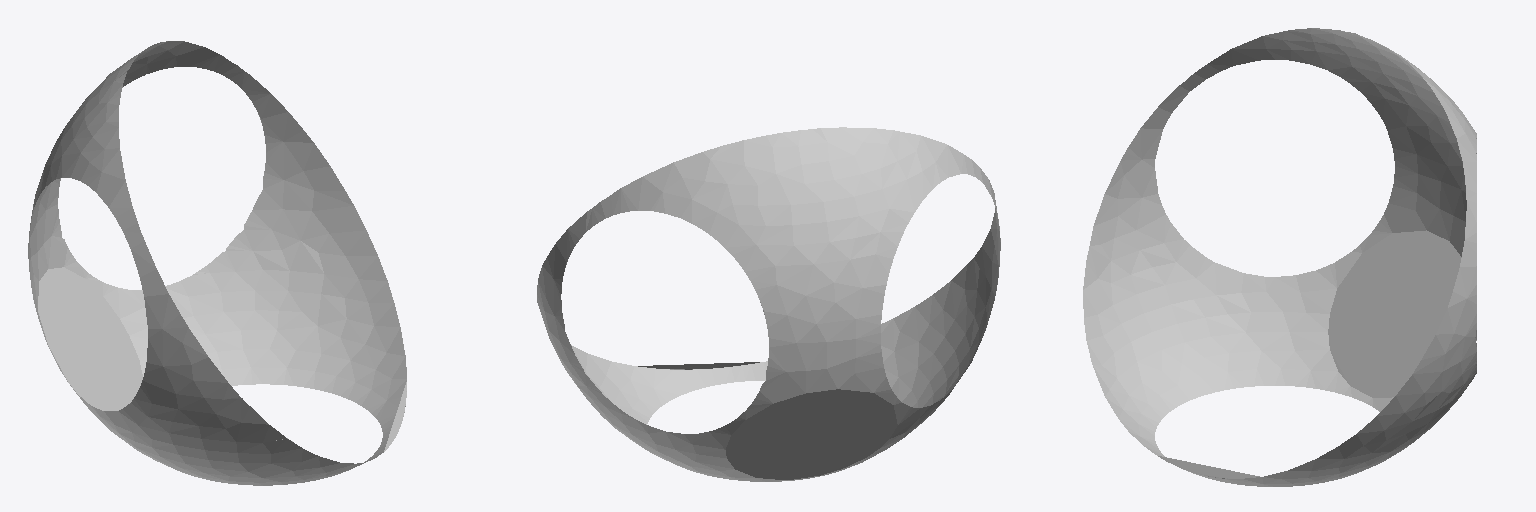
The model's file is hemisphere_50.obj.
The picture shows the model from 3 angles: view 1: azimuth 30°, elevation 25°; view 2: azimuth 150°, elevation 25°; view 3: azimuth 270°, elevation 25°; orthographic projection.
Visible parts, largest first — view 1: <STL_BINARY>; view 2: <STL_BINARY>; view 3: <STL_BINARY>.
Part boxes in pixels (x1,y1,x2,y2): <STL_BINARY>: (28,41,406,485); <STL_BINARY>: (537,127,1000,481); <STL_BINARY>: (1083,28,1476,486).
Bounding box in the file's own units: 0.9944 × 0.9931 × 0.9949.